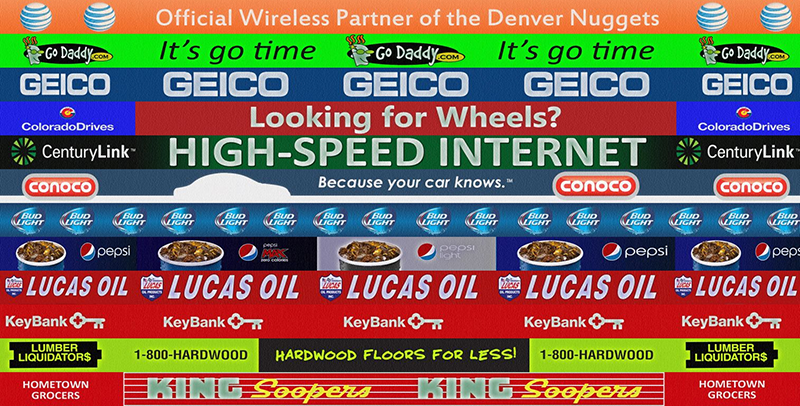geico: (14, 67, 796, 102)
